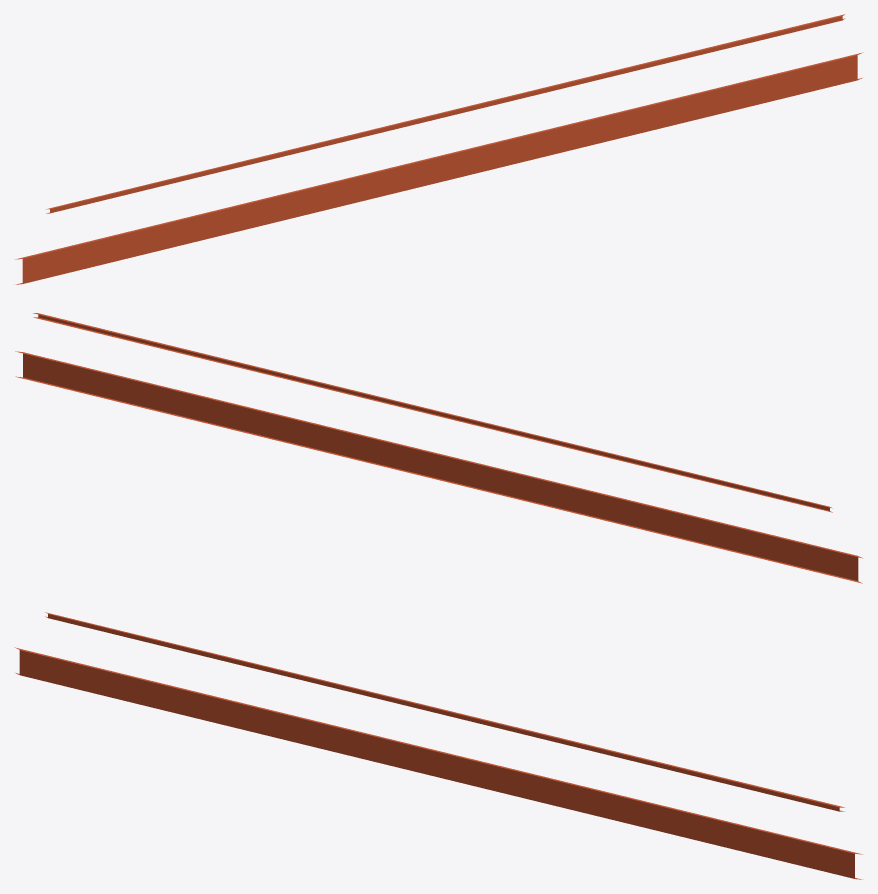
The model's file is beko_duvar.fbx.
3 renders of one model, top to bottom at view 1: azimuth 30°, elevation 25°; view 2: azimuth 150°, elevation 25°; view 3: azimuth 330°, elevation 25°, orthographic.
Parts seen in each view (by area): view 1: Plane.002; view 2: Plane.002; view 3: Plane.002.
Boxes of the visible parts, x1,y1,x2,y2 form: Plane.002: (14, 14, 863, 284); Plane.002: (15, 313, 862, 583); Plane.002: (14, 612, 863, 879).
Size of the model in its own units: 1350 by 103 by 3.89.
